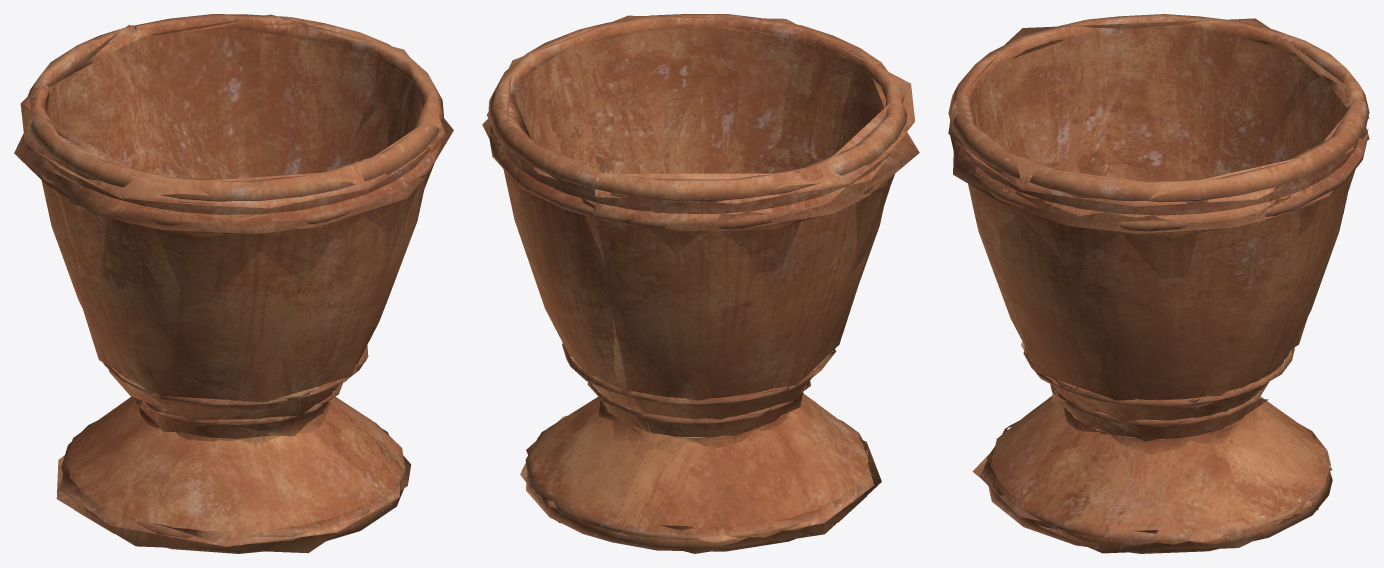
The model's file is terracotta-pot.glb.
3 renders of one model, left to right at view 1: azimuth 30°, elevation 25°; view 2: azimuth 150°, elevation 25°; view 3: azimuth 270°, elevation 25°, orthographic.
Visible parts, largest first — view 1: pot-coarse, pot-fine; view 2: pot-fine, pot-coarse; view 3: pot-fine, pot-coarse.
Part boxes in pixels (left/top/right/bottom): pot-coarse: left=14, top=14, right=453, bottom=553; pot-fine: left=26, top=14, right=443, bottom=553; pot-fine: left=488, top=14, right=906, bottom=551; pot-coarse: left=482, top=15, right=919, bottom=553; pot-fine: left=948, top=14, right=1369, bottom=553; pot-coarse: left=948, top=18, right=1369, bottom=553.
Size of the model in its own units: 1 by 1 by 1.
Materials: 1 (1 with a texture image).
